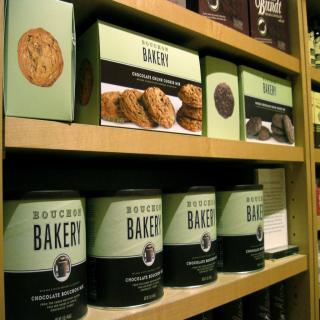Cookie: (17, 26, 63, 88), (120, 89, 158, 130), (142, 85, 176, 130), (174, 82, 202, 133), (101, 90, 131, 122), (76, 59, 95, 108), (270, 112, 295, 143), (214, 82, 235, 118), (246, 116, 262, 137), (258, 124, 272, 141)
